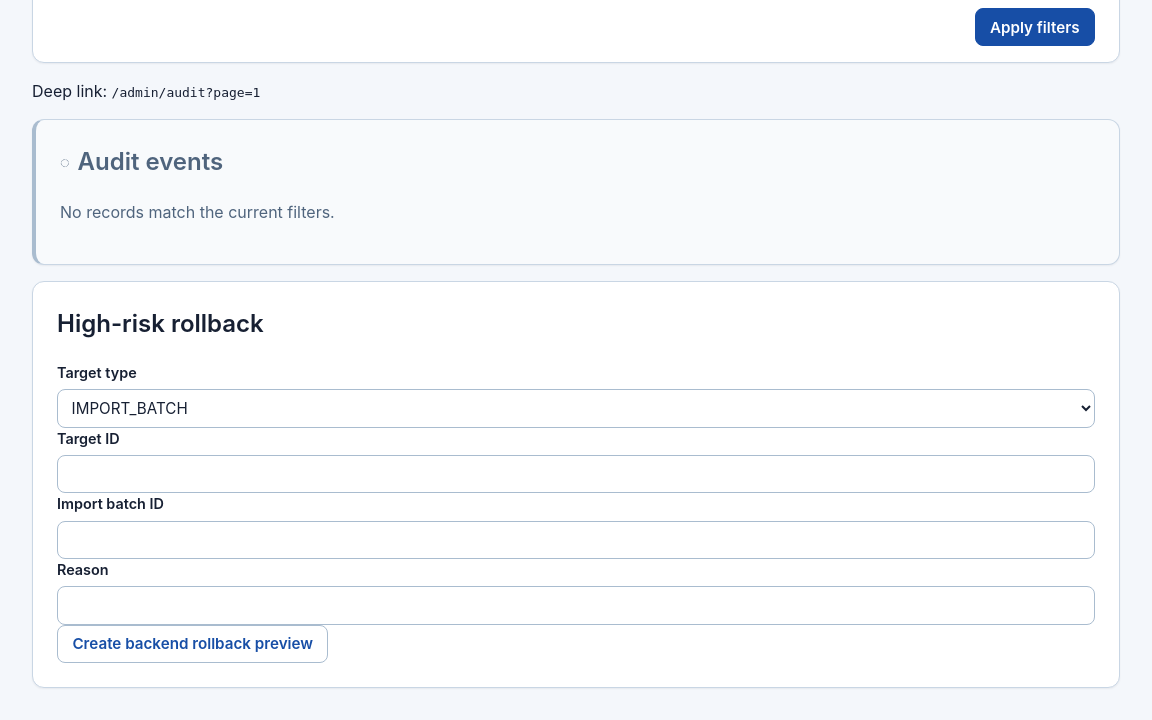
Test case: audit history and rollback workflows › reports rollback execution failure status 400 safely
This screenshot has width=1152, height=720.
(page scrolled)
Click the button "Create backend rollback preview": (193, 644) [57,624,328,663]
(page scrolled)
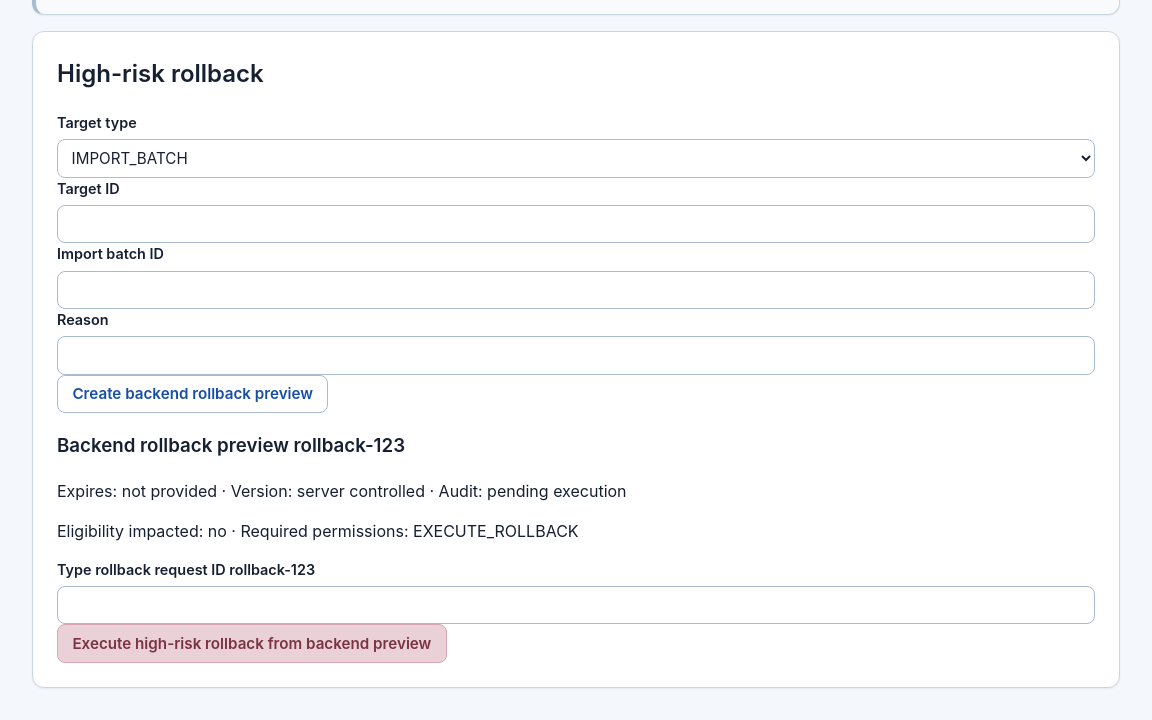
In the field labelled "Type rollback request ID rollback-123": (576, 605) [57,586,1095,624], type "rollback-123"
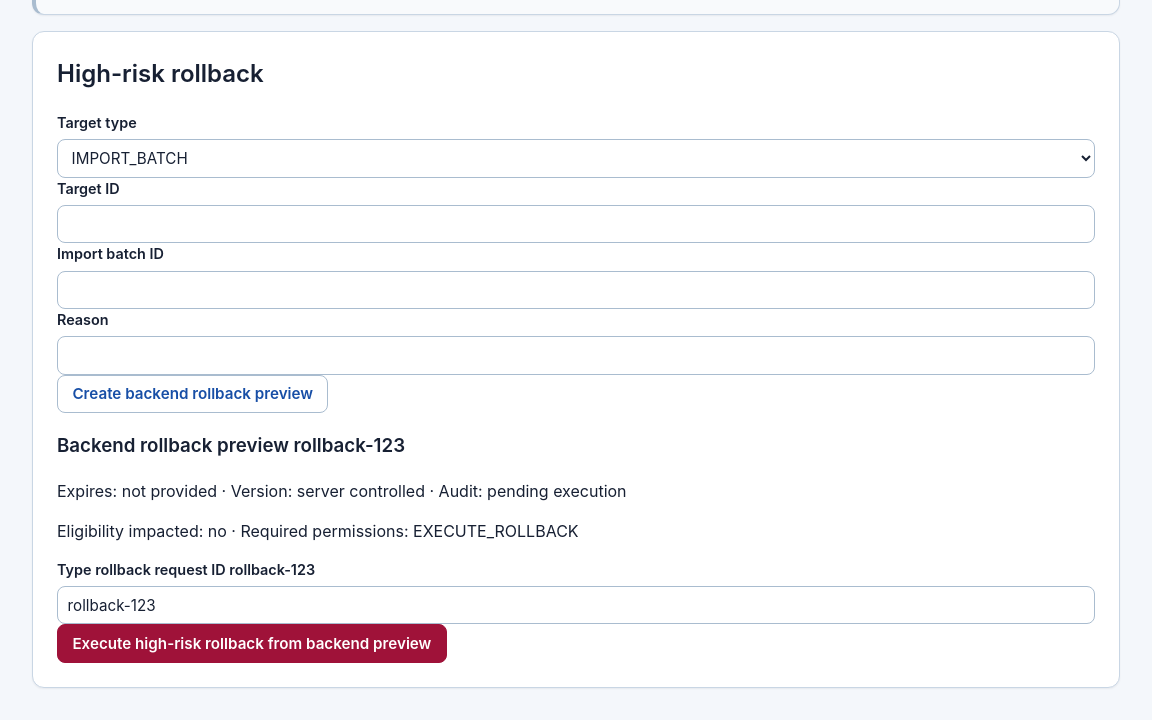
Click the button "Execute high-risk rollback from backend preview": (252, 644) [57,624,447,663]
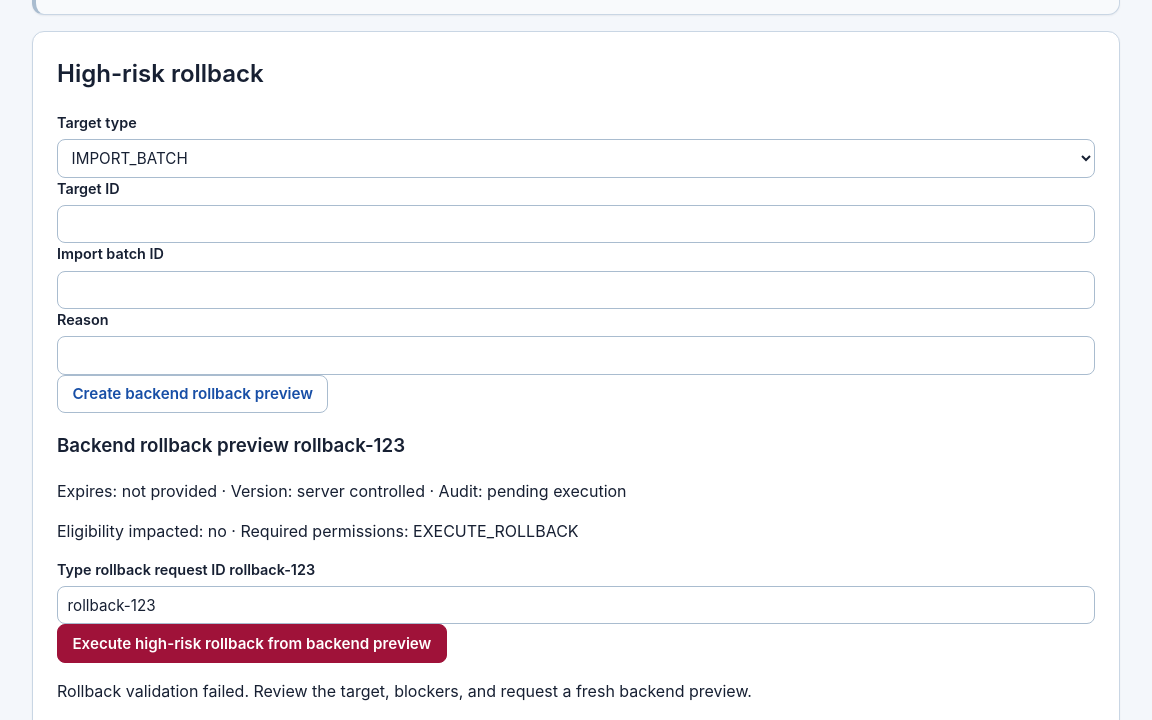
expect the text "Rollback validation failed. Review the target, blockers, and request a fresh backend preview." is shown: met, box [57,681,752,701]
